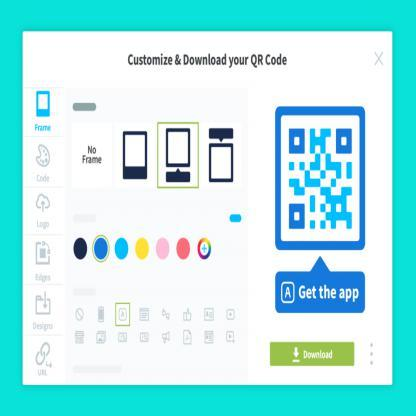qr_code: (289, 128, 352, 229)
